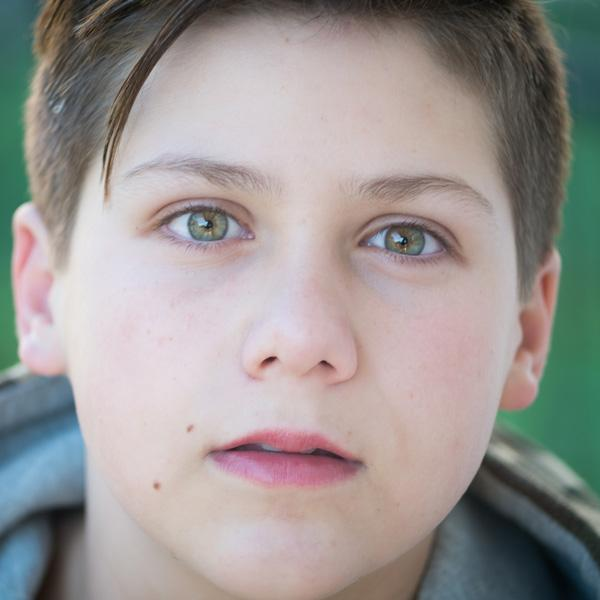Eyes: (132, 181, 266, 264), (345, 198, 472, 281)
